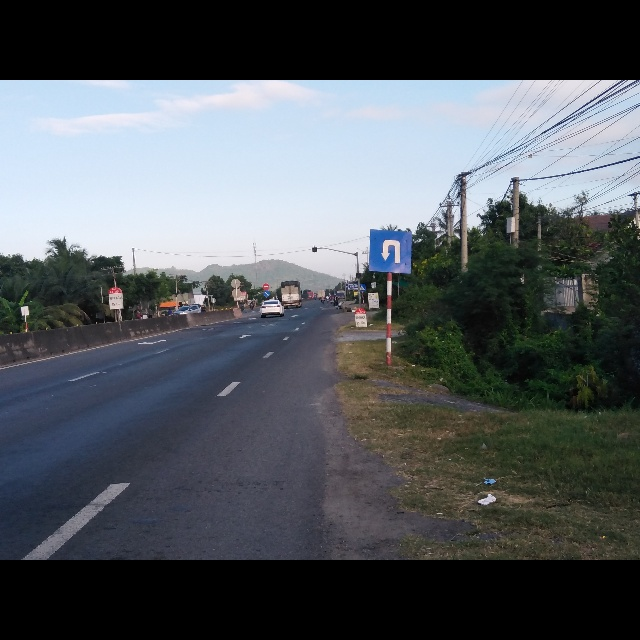Khu vực quay đầu xe: (367, 229, 412, 276)
